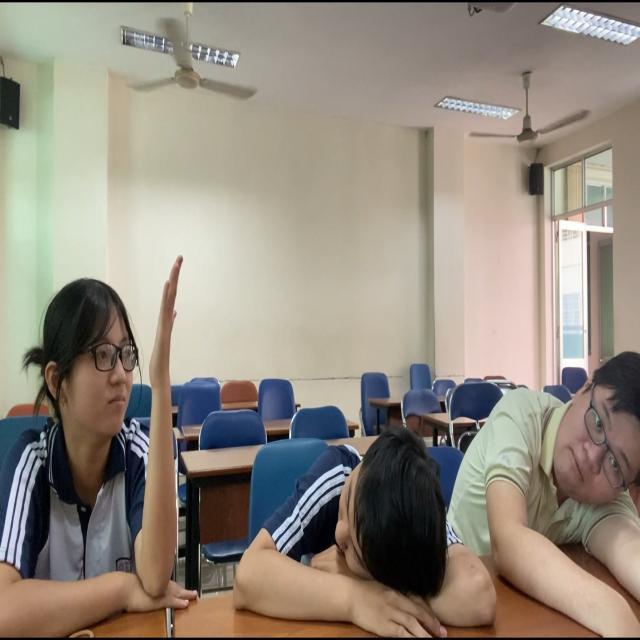raise_hand: (1, 245, 188, 640)
sleep: (232, 427, 508, 640)
